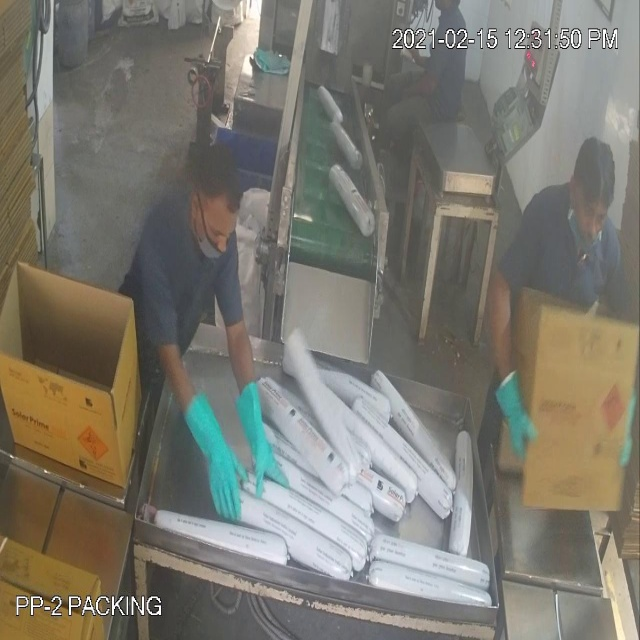Guantes: (169, 377, 245, 526), (221, 348, 285, 506), (488, 348, 551, 474)
